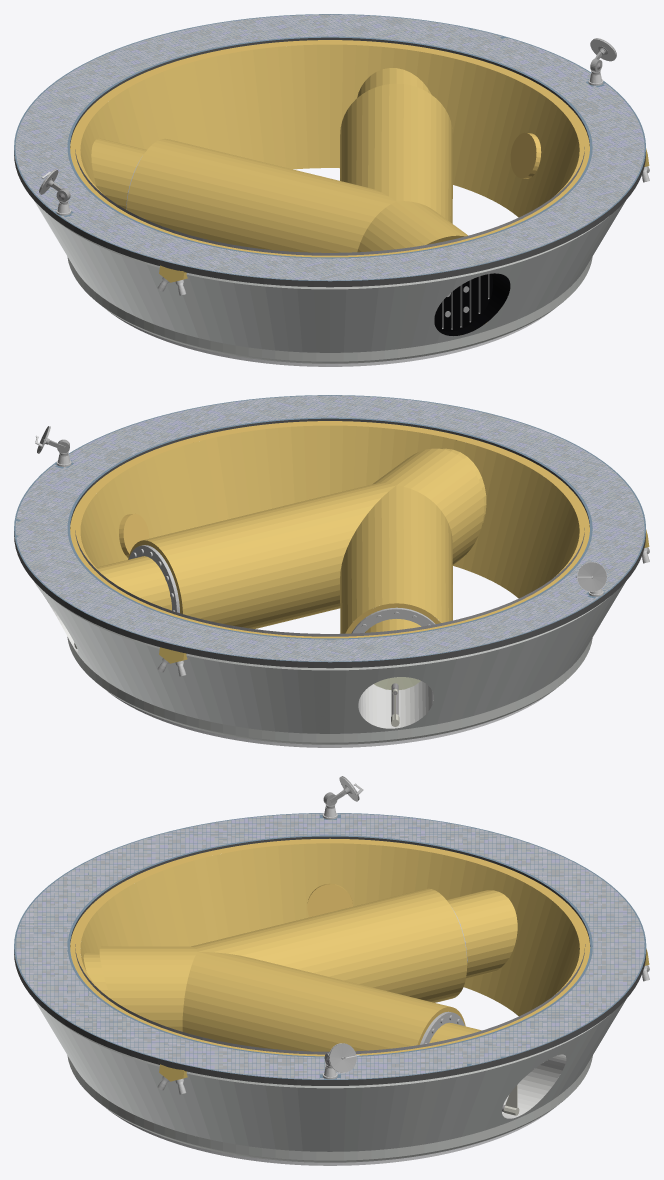
File: laser-interferometer-space-antenna-lisa-2006.glb
3 renders of one model, top to bottom at view 1: azimuth 30°, elevation 25°; view 2: azimuth 150°, elevation 25°; view 3: azimuth 270°, elevation 25°, orthographic.
Visible parts, largest first — view 1: Layer_0; view 2: Layer_0; view 3: Layer_0.
Boxes of the visible parts, x1,y1,x2,y2 form: Layer_0: [14, 14, 649, 366]; Layer_0: [14, 395, 649, 747]; Layer_0: [14, 776, 649, 1165].
Size of the model in its own units: 2.59 by 0.6508 by 2.49.
Materials: 2 (2 with a texture image).
